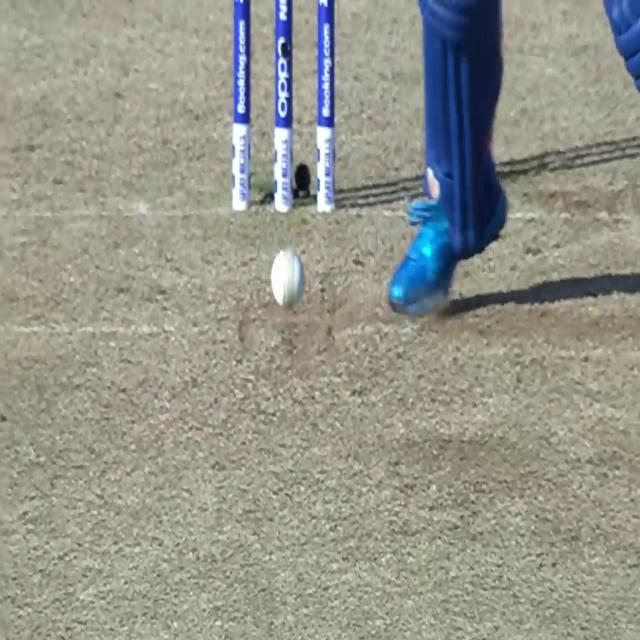ball: (270, 250, 302, 309)
